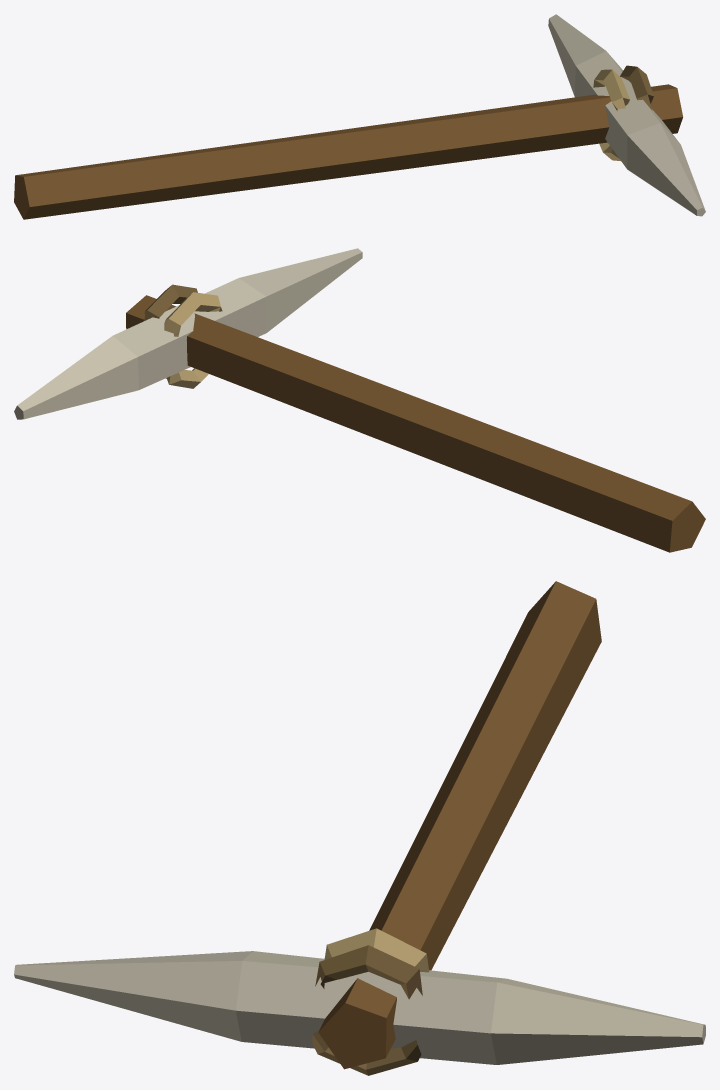
File: toolmaker_hut_piccone.glb
The picture shows the model from 3 angles, top to bottom: view 1: azimuth 30°, elevation 25°; view 2: azimuth 150°, elevation 25°; view 3: azimuth 270°, elevation 25°; orthographic projection. The views are drawn at different scales.
Visible parts, largest first — view 1: toolmaker_hut_piccone; view 2: toolmaker_hut_piccone; view 3: toolmaker_hut_piccone.
Boxes of the visible parts, x1,y1,x2,y2 form: toolmaker_hut_piccone: (14,14,705,219); toolmaker_hut_piccone: (14,248,705,552); toolmaker_hut_piccone: (14,581,705,1075).
Size of the model in its own units: 0.7743 by 0.1135 by 0.5308.
